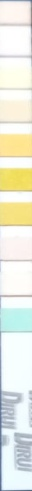color 1: (1, 4, 30, 22)
color 10: (1, 311, 30, 329)
color 2: (1, 37, 30, 55)
color 3: (1, 68, 30, 87)
color 4: (1, 102, 29, 119)
color 5: (1, 134, 29, 155)
color 6: (1, 169, 30, 190)
color 7: (1, 204, 30, 223)
color 8: (1, 239, 30, 260)
color 9: (2, 275, 30, 294)
